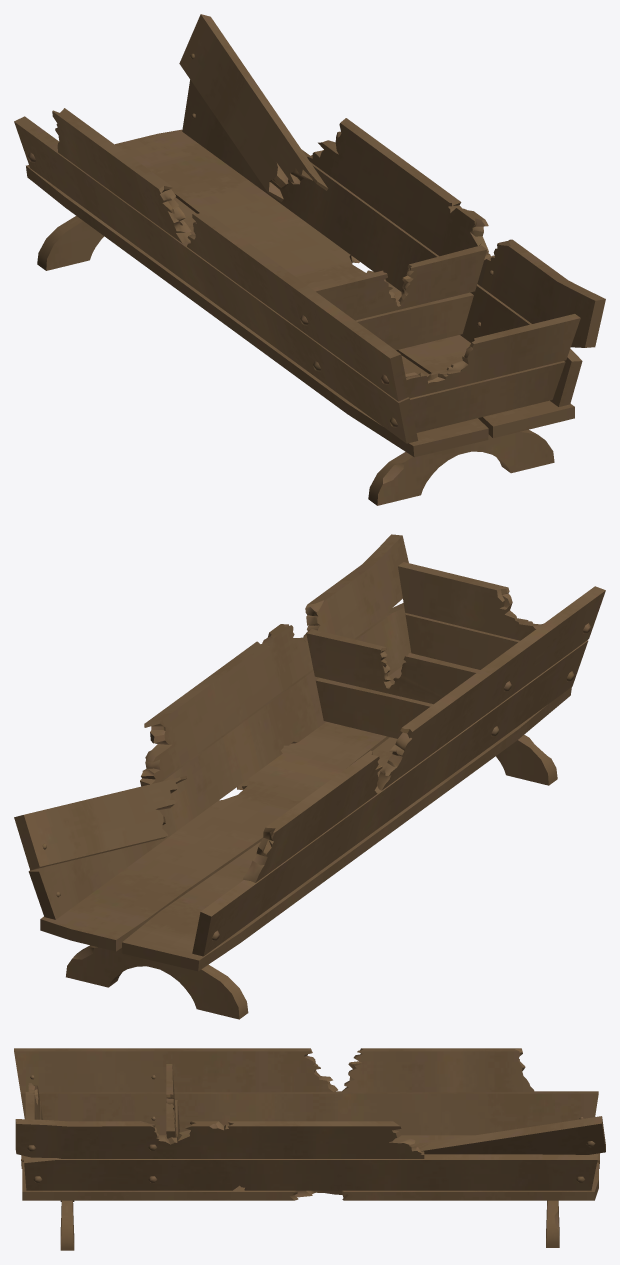
3 views of the same model, one above another, from view 1: azimuth 30°, elevation 25°; view 2: azimuth 150°, elevation 25°; view 3: azimuth 270°, elevation 25° (orthographic). The views are drawn at different scales.
Parts seen in each view (by area): view 1: SM_Volcano_LOD0; view 2: SM_Volcano_LOD0; view 3: SM_Volcano_LOD0.
Part boxes in pixels (x1,y1,x2,y2): SM_Volcano_LOD0: [14, 14, 605, 505]; SM_Volcano_LOD0: [14, 534, 605, 1019]; SM_Volcano_LOD0: [14, 1048, 605, 1250].
Bounding box in the file's own units: 0.7879 × 0.6332 × 2.47.
